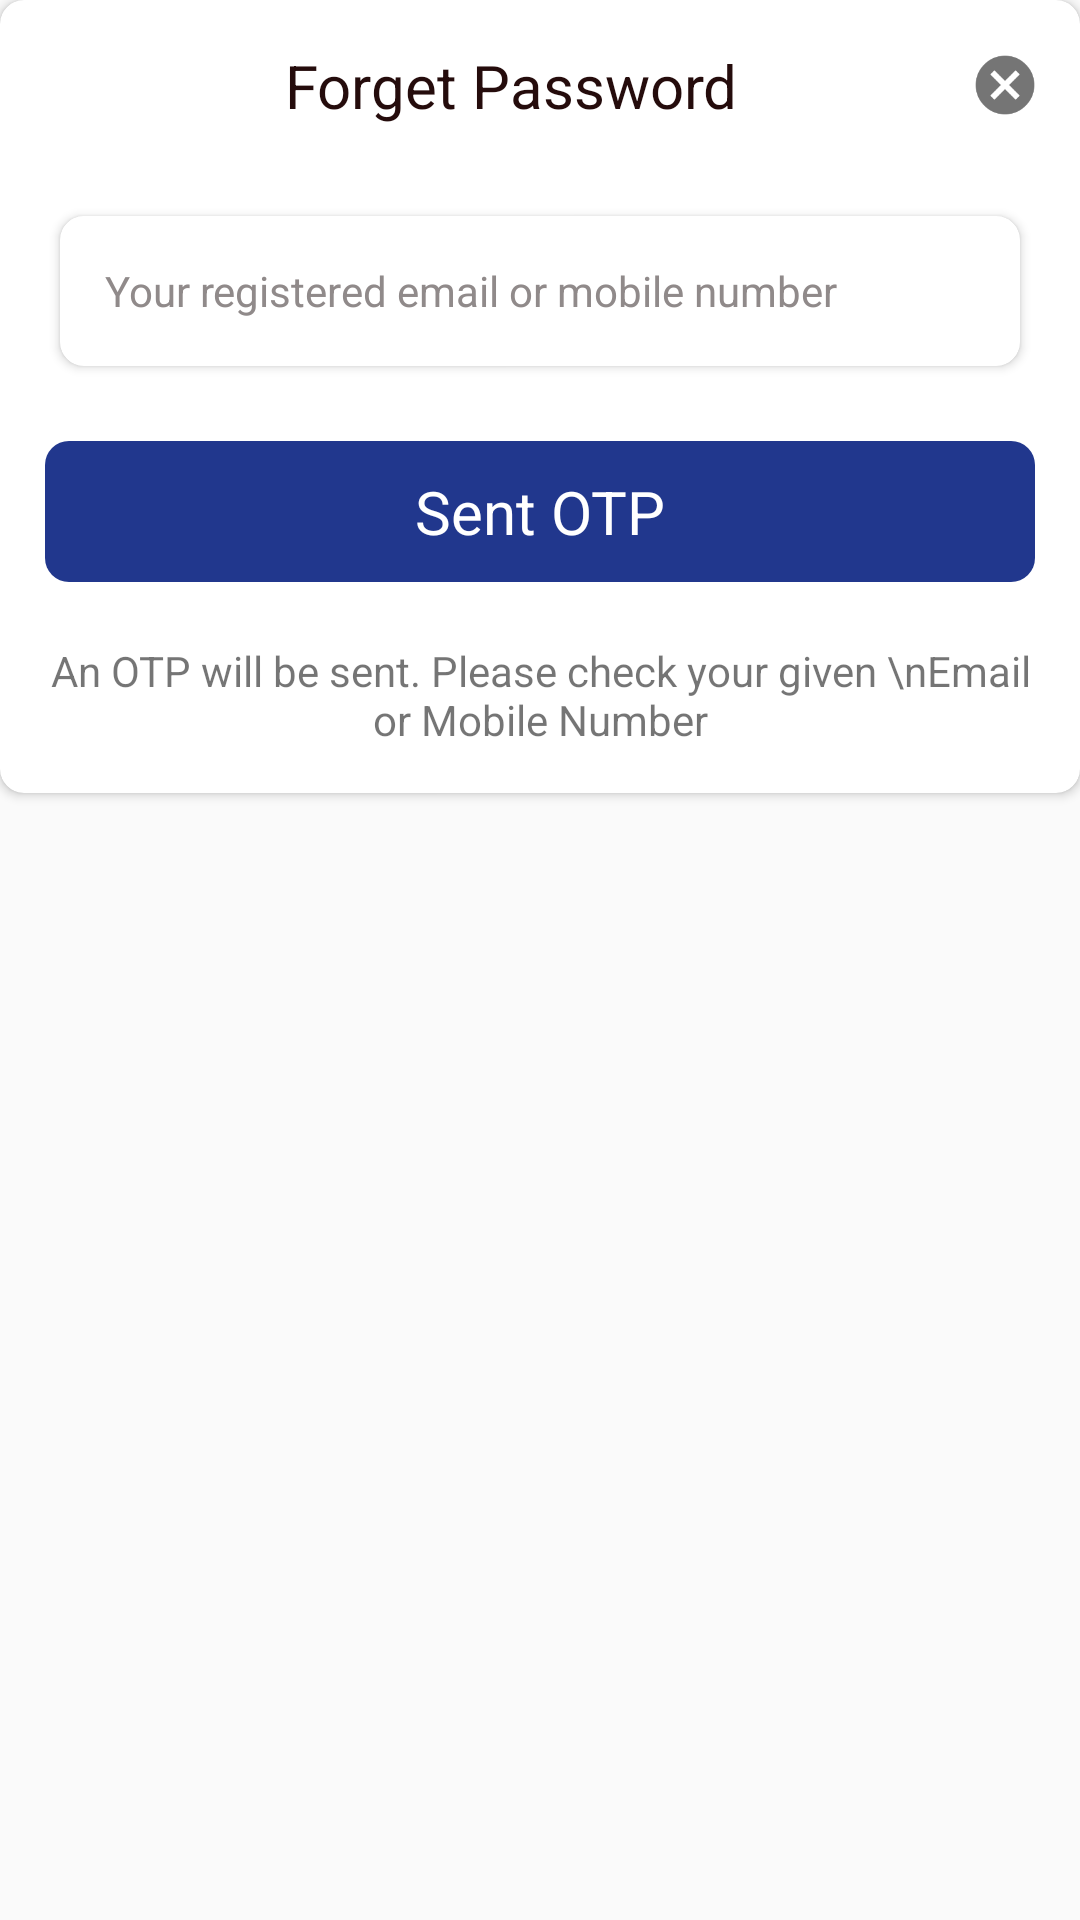

Icons on this 1080px x 1920px Android screen, each with the point to tap as (x=x, y=y):
dismiss: (x=1005, y=85)
